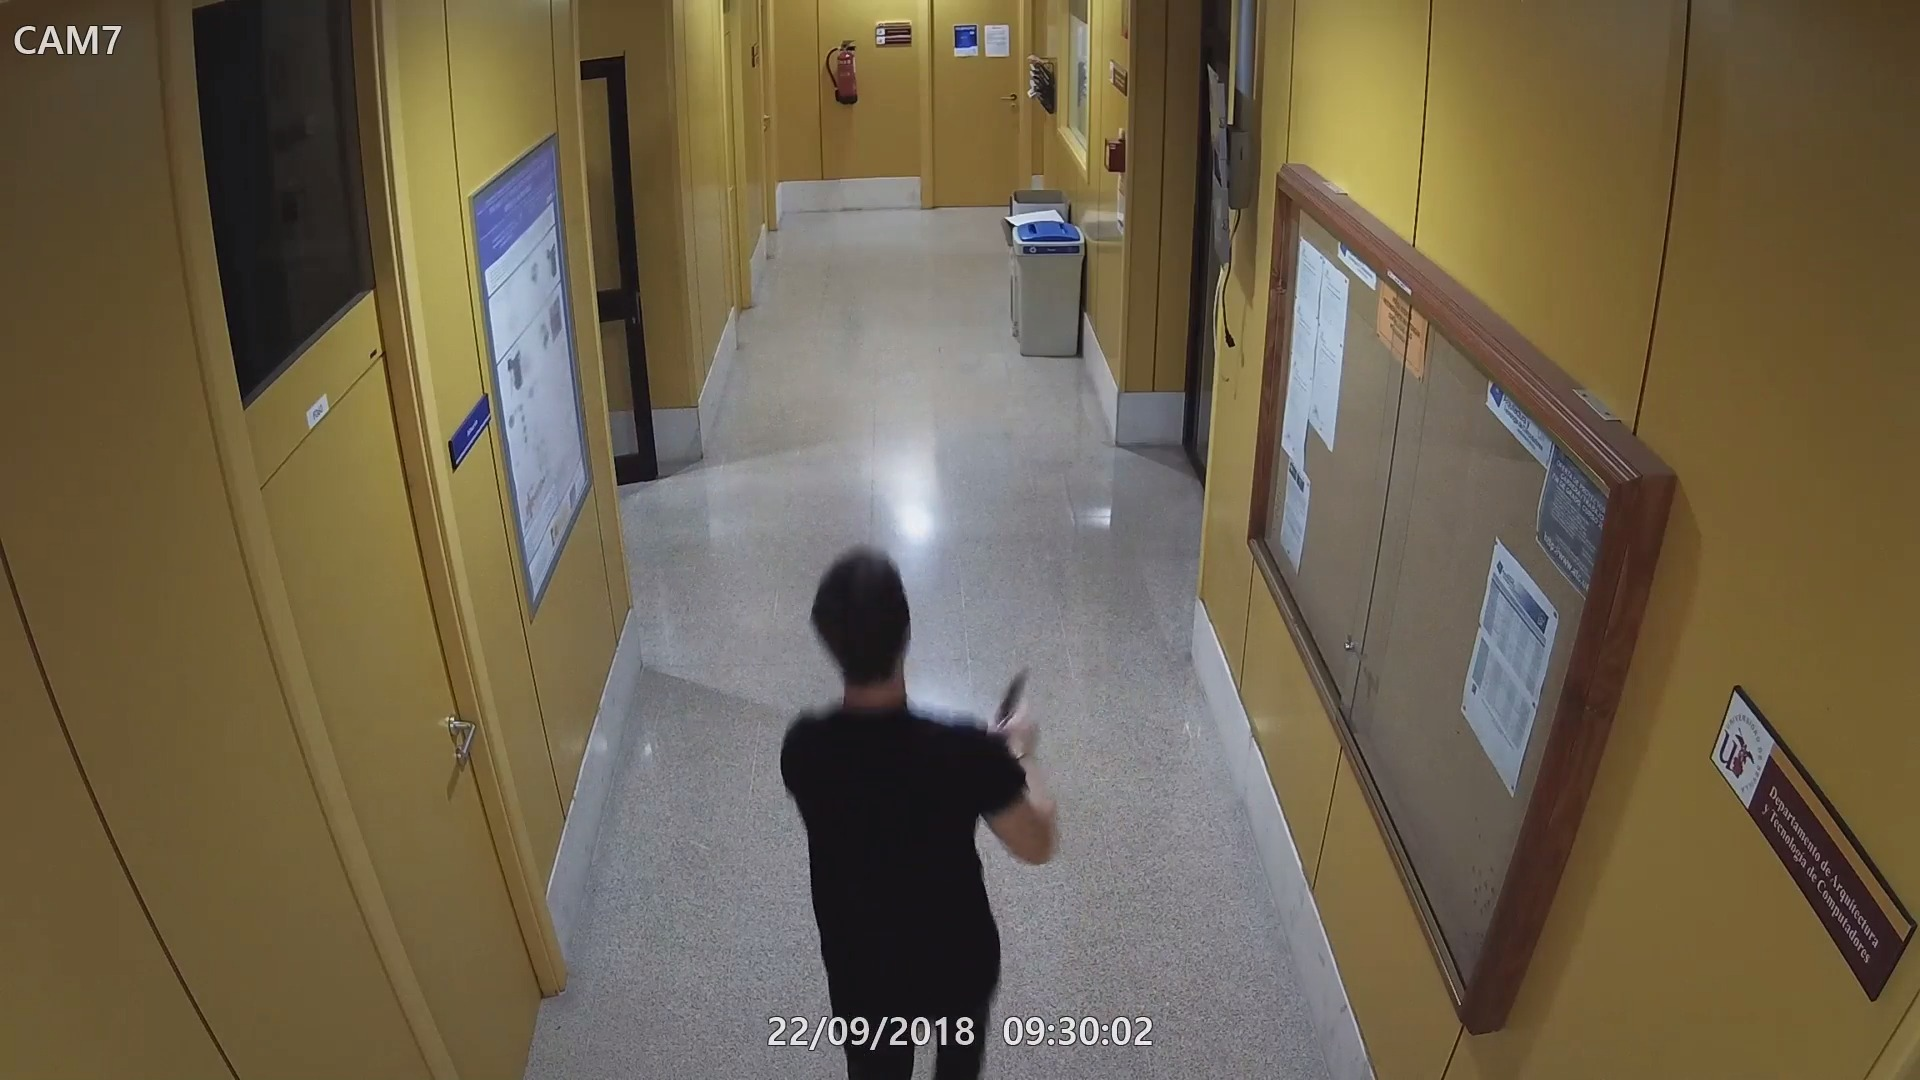Handgun: (989, 659, 1040, 760)
